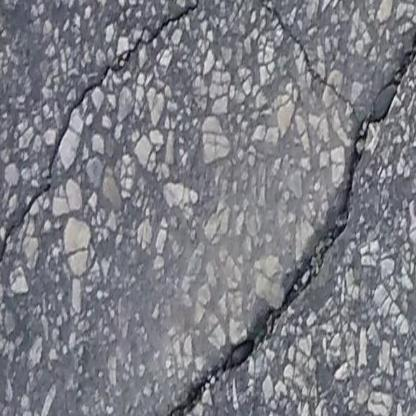Cracks: (125, 8, 416, 416), (42, 0, 224, 181), (254, 0, 355, 114), (0, 185, 47, 322)
